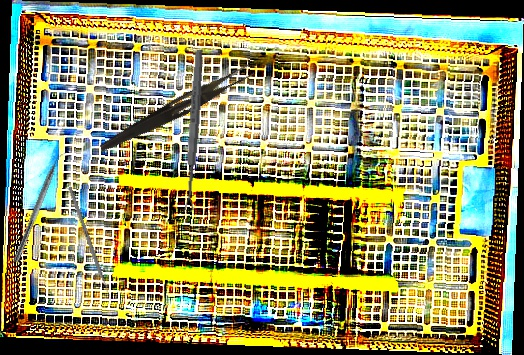Chopper: (12, 146, 71, 266)
Dressing Forceps: (98, 58, 255, 160)
Pusher: (67, 186, 114, 304)
Surgical Spoon: (182, 49, 205, 213)
